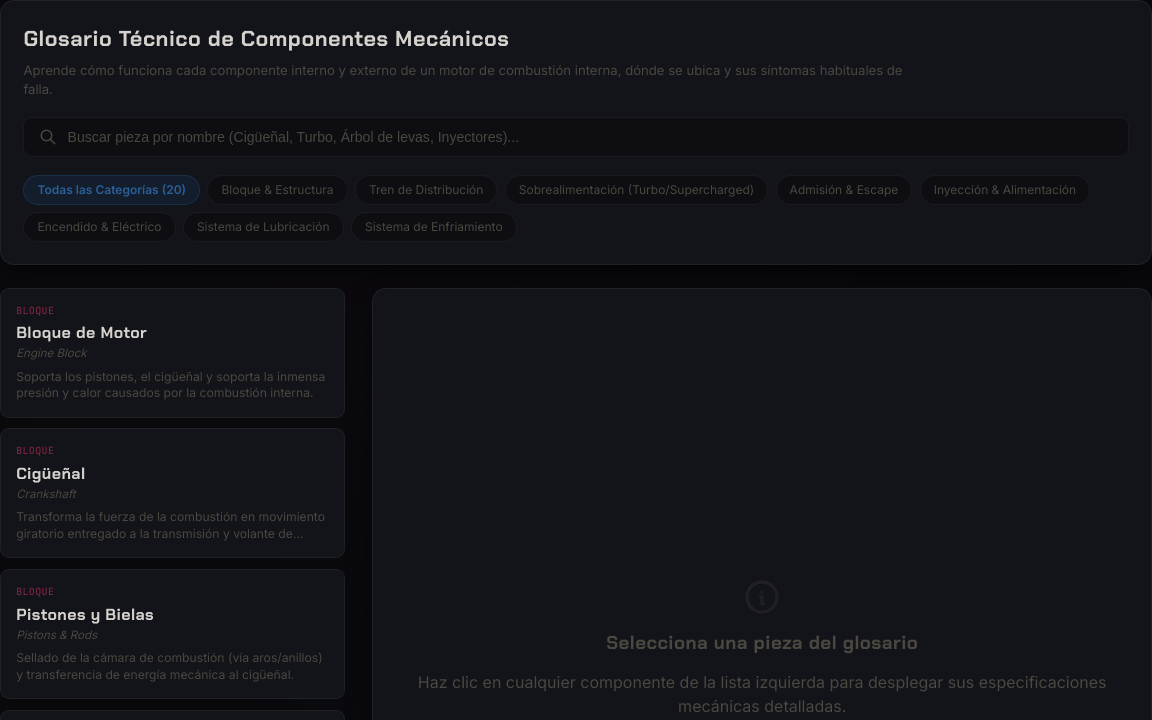
MotorExplorer - PartsGlossary Component Tests › selects a part and displays full diagnostic information
The image size is (1152, 720).
Click on "Pistones y Bielas"
Click the heading "Pistones y Bielas".
click(85, 614)  # box [16,604,154,625]
(page scrolled)
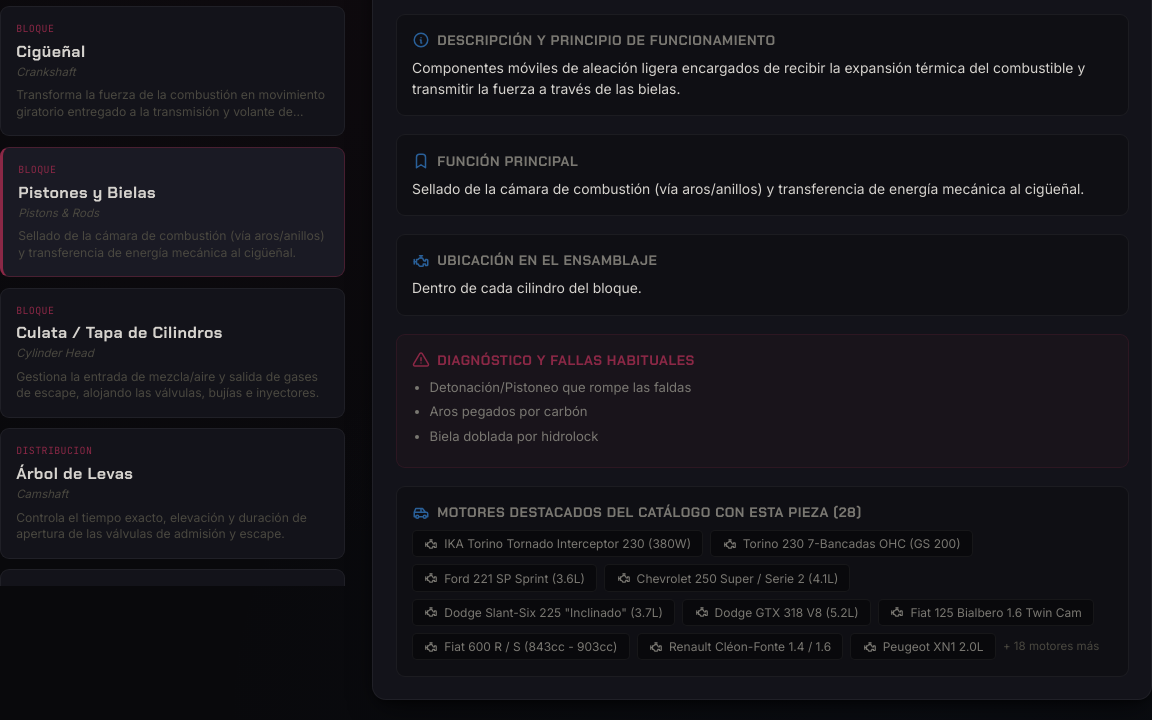
Now the text "Función Principal" is shown, box [437,151,578,171]
Now the text "Ubicación en el Ensamblaje" is shown, box [437,250,657,271]
Now the text "Diagnóstico y Fallas Habituales" is shown, box [437,350,695,371]
